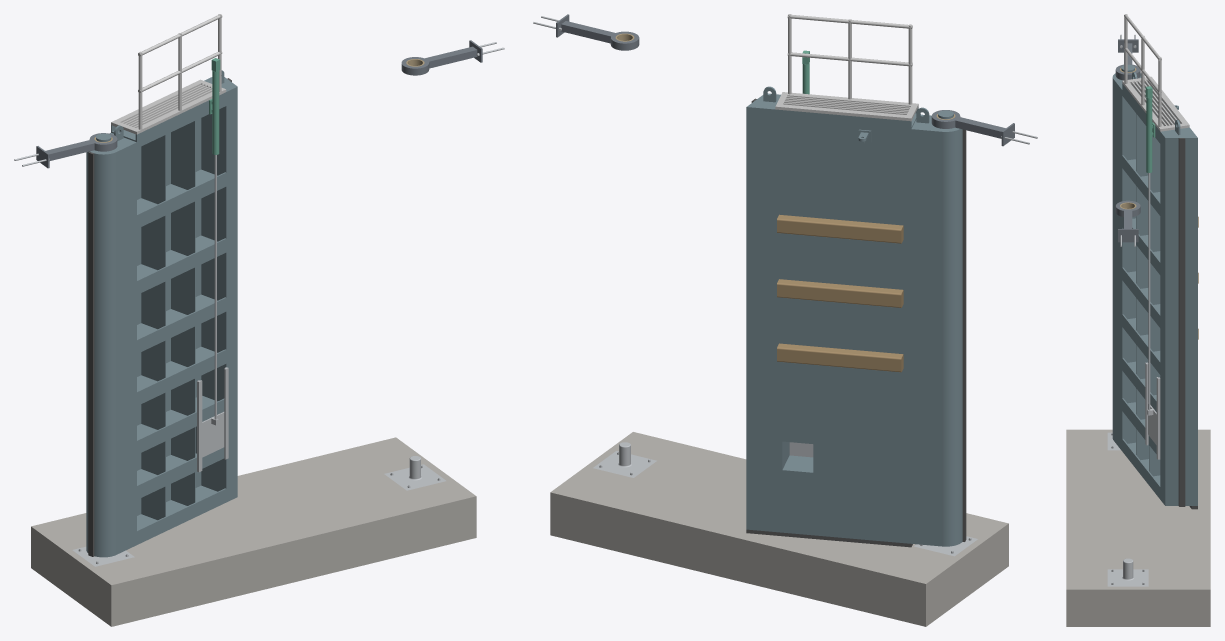
The model's file is step_03.glb.
The picture shows the model from 3 angles, left to right: view 1: azimuth 30°, elevation 25°; view 2: azimuth 150°, elevation 25°; view 3: azimuth 270°, elevation 25°; orthographic projection. The views are drawn at different scales.
Visible parts, largest first — view 1: part__cill, part__left heel post, part__left mitre post, part__left stiffener 2, part__left stiffener 1, part__left skin plate, part__left heel seal, part__left walkway grating, part__left girder 1, part__left girder 6, part__left girder 4, part__left girder 5 (+11 smaller); view 2: part__left skin plate, part__cill, part__left heel post, part__left mitre post, part__left walkway grating, part__left oak fender 3, part__left oak fender 2, part__left oak fender 1, part__left heel seal, part__left handrail, part__right bottom pintle, part__right anchor collar (+2 smaller); view 3: part__cill, part__left mitre post, part__left heel post, part__mitre seal, part__left stiffener 1, part__left stiffener 2, part__left walkway grating, part__left handrail, part__right bottom pintle, part__left girder 1, part__left girder 7, part__left girder 4 (+13 smaller).
Part boxes in pixels (bbox=[...]): part__cill: bbox=[31, 437, 476, 626]; part__left heel post: bbox=[86, 133, 136, 557]; part__left mitre post: bbox=[201, 77, 237, 502]; part__left stiffener 2: bbox=[171, 120, 195, 505]; part__left stiffener 1: bbox=[141, 135, 165, 520]; part__left skin plate: bbox=[111, 118, 201, 515]; part__left heel seal: bbox=[88, 152, 94, 556]; part__left walkway grating: bbox=[111, 79, 226, 134]; part__left girder 1: bbox=[137, 485, 226, 544]; part__left girder 6: bbox=[137, 235, 226, 294]; part__left girder 4: bbox=[137, 346, 226, 405]; part__left girder 5: bbox=[137, 294, 226, 353]; part__left skin plate: bbox=[775, 109, 911, 543]; part__cill: bbox=[550, 432, 1008, 626]; part__left heel post: bbox=[911, 110, 962, 546]; part__left mitre post: bbox=[746, 93, 780, 531]; part__left walkway grating: bbox=[775, 92, 918, 121]; part__left oak fender 3: bbox=[777, 214, 903, 243]; part__left oak fender 2: bbox=[777, 279, 903, 307]; part__left oak fender 1: bbox=[777, 343, 903, 372]; part__left heel seal: bbox=[962, 129, 966, 541]; part__left handrail: bbox=[787, 14, 912, 104]; part__right bottom pintle: bbox=[593, 442, 656, 477]; part__right anchor collar: bbox=[561, 21, 639, 50]; part__cill: bbox=[1066, 429, 1210, 626]; part__left mitre post: bbox=[1160, 127, 1197, 505]; part__left heel post: bbox=[1112, 64, 1149, 450]; part__mitre seal: bbox=[1178, 138, 1185, 506]; part__left stiffener 1: bbox=[1136, 97, 1162, 460]; part__left stiffener 2: bbox=[1149, 112, 1174, 476]; part__left walkway grating: bbox=[1122, 76, 1189, 131]; part__left handrail: bbox=[1124, 14, 1161, 126]; part__right bottom pintle: bbox=[1107, 558, 1148, 586]; part__left girder 1: bbox=[1122, 439, 1160, 499]; part__left girder 7: bbox=[1122, 155, 1160, 215]; part__left girder 4: bbox=[1122, 314, 1160, 374].
Size of the model in its own units: 7258 by 7700 by 2100.
